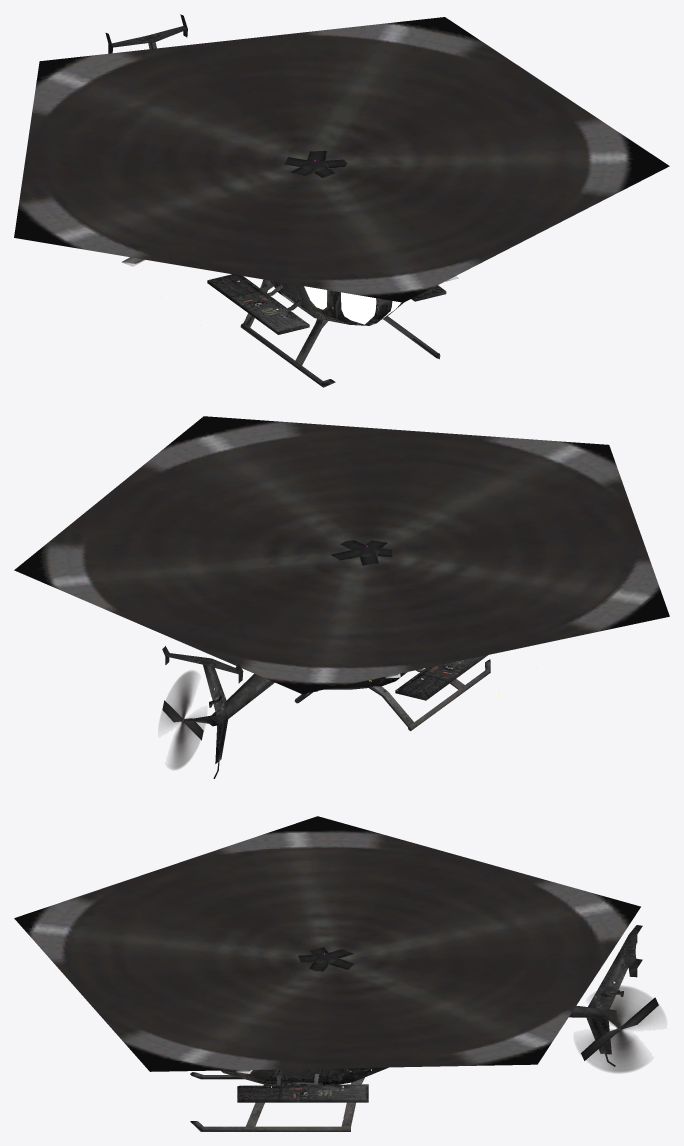
The model's file is FAH6b.glb.
3 renders of one model, top to bottom at view 1: azimuth 30°, elevation 25°; view 2: azimuth 150°, elevation 25°; view 3: azimuth 270°, elevation 25°, orthographic. The views are drawn at different scales.
Visible parts, largest first — view 1: 03 Mesh1, 01 Mesh0, 01 Mesh2, 02 Mesh0, 01 Mesh0.001; view 2: 03 Mesh1, 01 Mesh0, 05 Mesh0, 01 Mesh0.001, 05 Mesh0.001, 02 Mesh0; view 3: 03 Mesh1, 01 Mesh0, 05 Mesh0, 05 Mesh0.001, 01 Mesh0.001, 02 Mesh0, 04 Mesh0.
Part boxes in pixels (box(x1,y1,x2,y2)): 03 Mesh1: box(14, 17, 669, 302); 01 Mesh0: box(105, 14, 446, 387); 01 Mesh2: box(304, 286, 401, 324); 02 Mesh0: box(121, 150, 458, 281); 01 Mesh0.001: box(181, 15, 445, 334); 03 Mesh1: box(14, 416, 669, 693); 01 Mesh0: box(162, 646, 490, 778); 05 Mesh0: box(170, 672, 196, 767); 01 Mesh0.001: box(164, 648, 486, 729); 05 Mesh0.001: box(173, 673, 193, 766); 02 Mesh0: box(331, 540, 400, 678); 03 Mesh1: box(14, 816, 640, 1071); 01 Mesh0: box(190, 925, 642, 1131); 05 Mesh0: box(599, 987, 639, 1071); 05 Mesh0.001: box(602, 988, 635, 1070); 01 Mesh0.001: box(219, 959, 639, 1131); 02 Mesh0: box(236, 947, 354, 1073); 04 Mesh0: box(581, 997, 658, 1060).
Size of the model in its own units: 10.77 by 3.22 by 11.68.
Materials: 10 (5 with a texture image).
